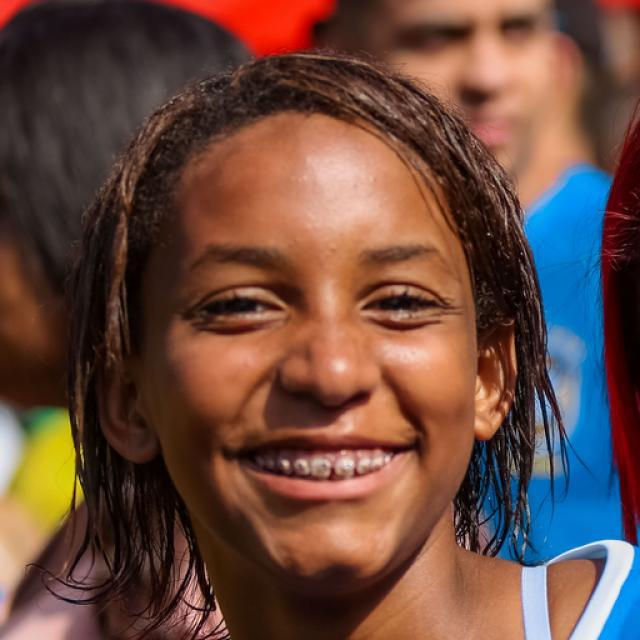happy: (146, 108, 476, 588)
